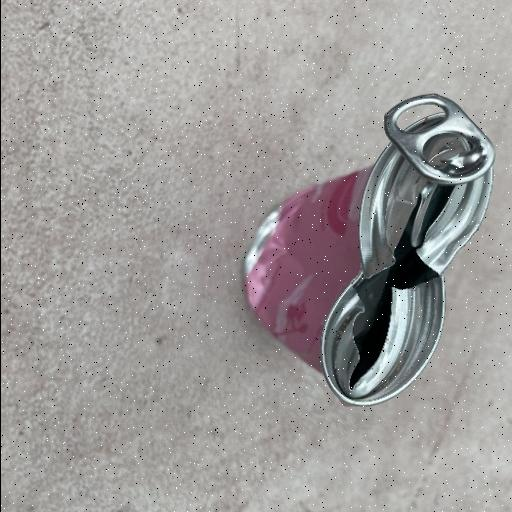Metal: (240, 91, 498, 409)
